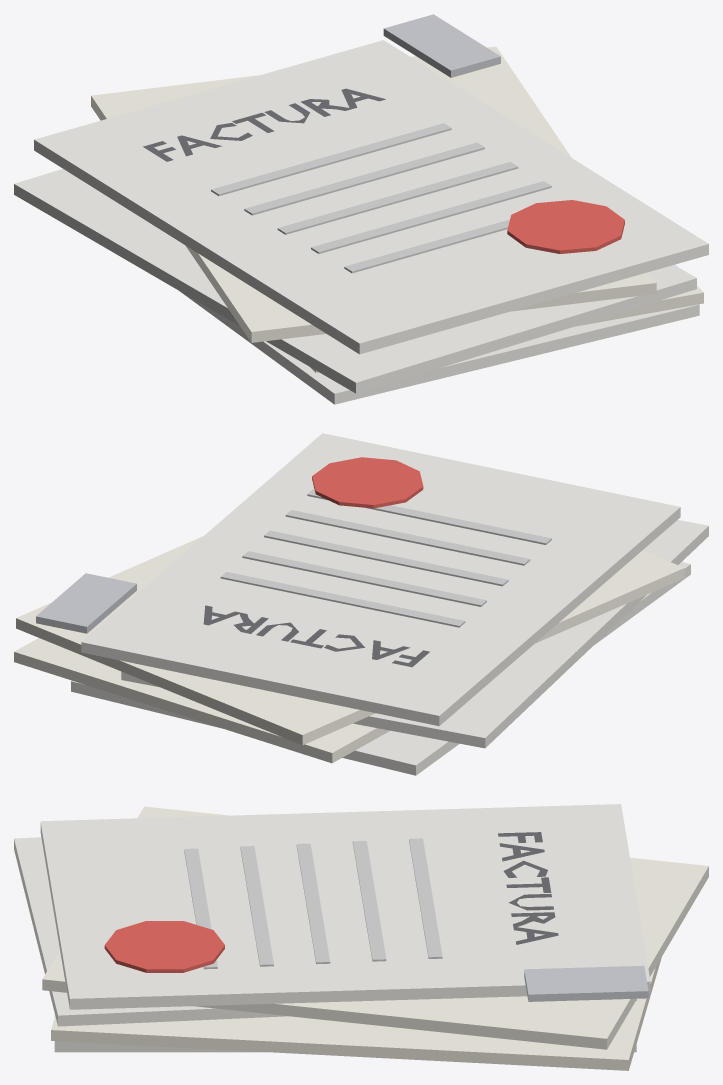
The model's file is prop_invoice_pile_01.glb.
3 renders of one model, top to bottom at view 1: azimuth 30°, elevation 25°; view 2: azimuth 150°, elevation 25°; view 3: azimuth 270°, elevation 25°, orthographic. The views are drawn at different scales.
Visible parts, largest first — view 1: prop_invoice_pile_01_body; view 2: prop_invoice_pile_01_body; view 3: prop_invoice_pile_01_body.
Part boxes in pixels (box(x1,y1,x2,y2)): prop_invoice_pile_01_body: box(14, 14, 708, 404); prop_invoice_pile_01_body: box(14, 433, 708, 775); prop_invoice_pile_01_body: box(14, 804, 708, 1070).
Bounding box in the file's own units: 0.2815 × 0.042 × 0.3463.
